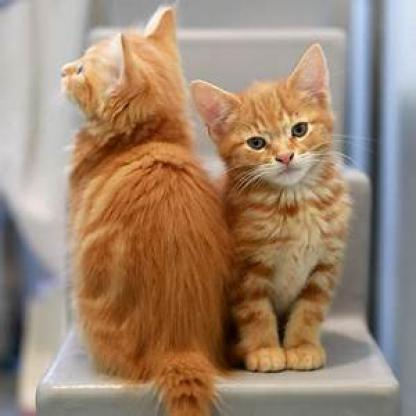cat: (24, 10, 223, 400), (197, 24, 370, 384)
